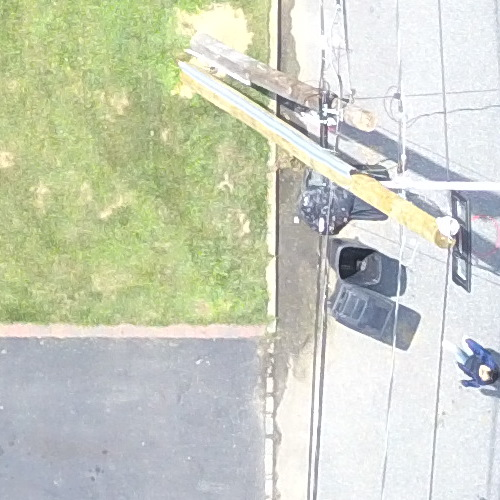basketball: (326, 119, 499, 306)
traish bin: (320, 273, 415, 351), (322, 227, 395, 291)
trash: (285, 163, 365, 240)
